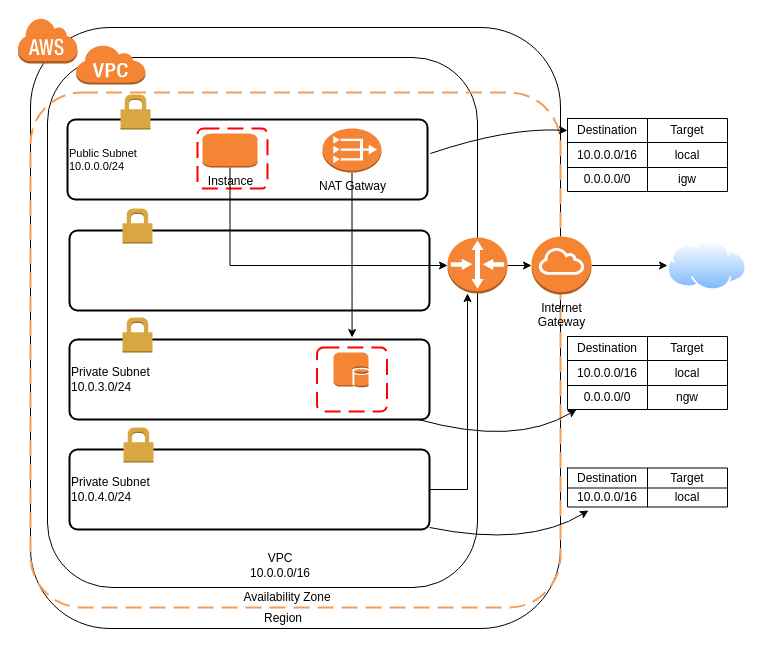
Image size: 764x646. Some labels were removed from this diagram. Each missing label, with the centre of its shape:
DB Instance: the point at 350,370
Public Subnet 10.0.1.0/24: the point at 249,270
Router: the point at 477,265
